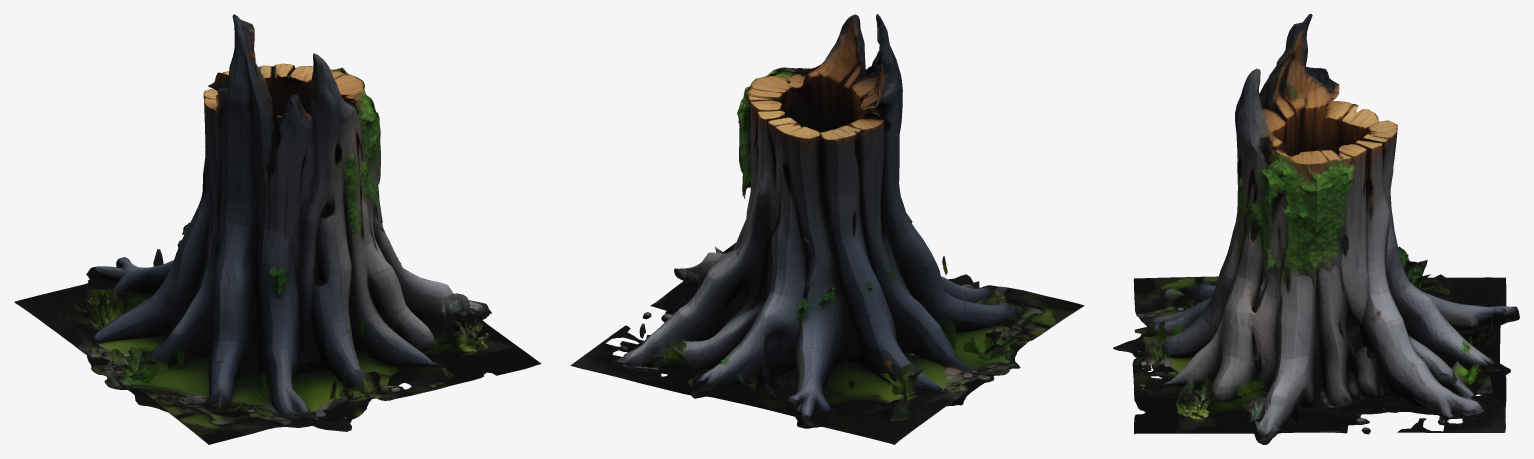
The model's file is tocon.glb.
3 renders of one model, left to right at view 1: azimuth 30°, elevation 25°; view 2: azimuth 150°, elevation 25°; view 3: azimuth 270°, elevation 25°, orthographic. The views are drawn at different scales.
Parts seen in each view (by area): view 1: world; view 2: world; view 3: world.
Part boxes in pixels (x1,y1,x2,y2): world: [14, 14, 541, 444]; world: [570, 14, 1084, 444]; world: [1113, 14, 1519, 444].
Size of the model in its own units: 0.9983 by 0.9239 by 1.
1 material, 1 textured.
